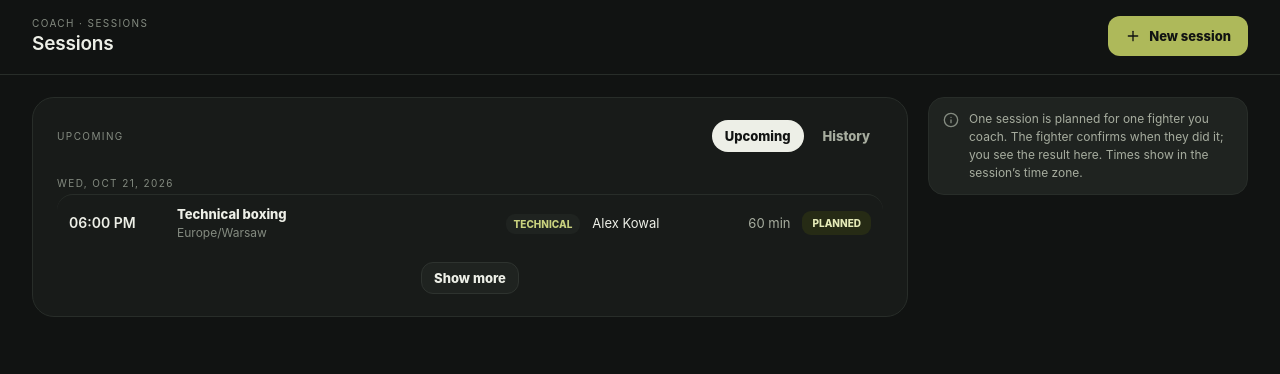
Test case: CoachSessions (WCT1) › pages with the backend's cursor
Click the button "Show more". click: (470, 278)
box: [421,262,519,294]
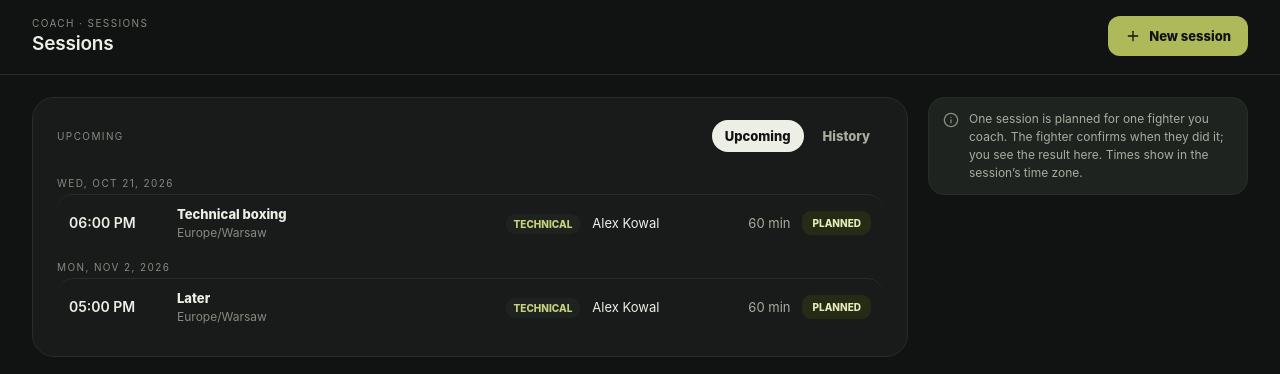
expect the link "Later" is shown: met, box [177,290,210,306]
expect the button "Show more" is gone: met
